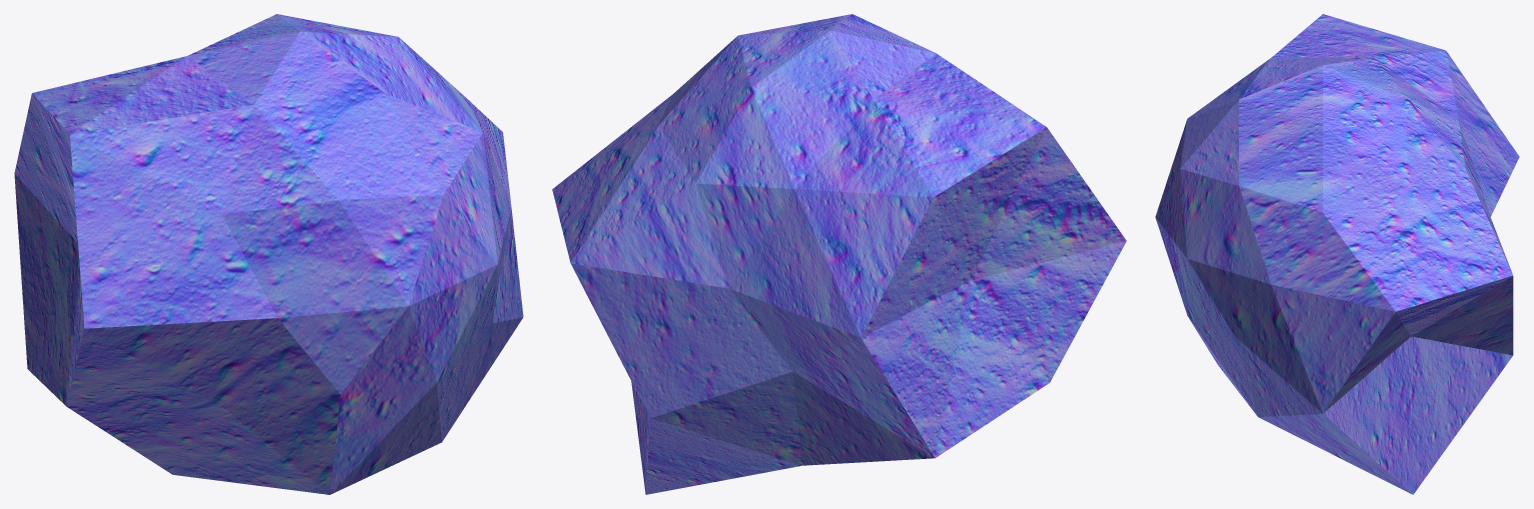
File: smallasteroid4_LOD4.fbx
The picture shows the model from 3 angles, left to right: view 1: azimuth 30°, elevation 25°; view 2: azimuth 150°, elevation 25°; view 3: azimuth 270°, elevation 25°; orthographic projection. The views are drawn at different scales.
Parts seen in each view (by area): view 1: Icosphere; view 2: Icosphere; view 3: Icosphere.
Boxes of the visible parts, bbox=[...] form: Icosphere: bbox=[14, 14, 523, 494]; Icosphere: bbox=[552, 14, 1126, 494]; Icosphere: bbox=[1155, 14, 1519, 494].
Size of the model in its own units: 276 by 248 by 217.
